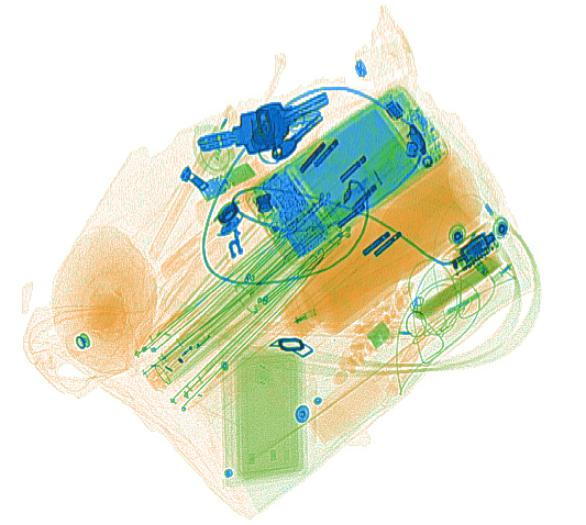USBFlashDisk: (197, 159, 261, 203)
